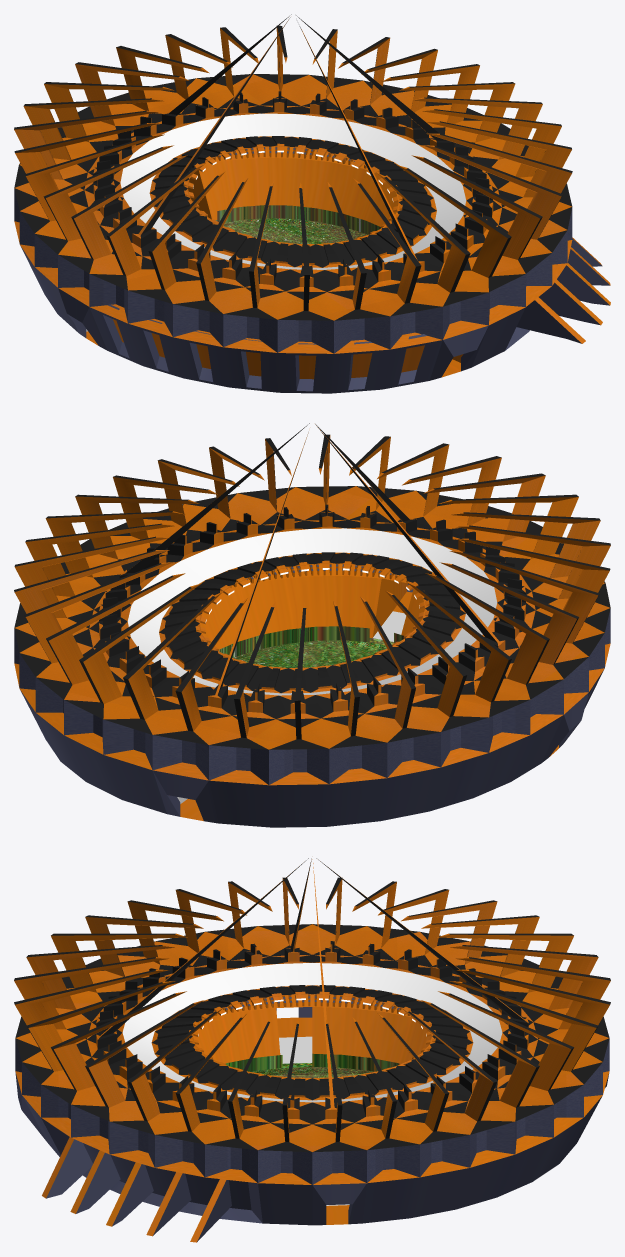
The model's file is olympic.glb.
The picture shows the model from 3 angles, top to bottom: view 1: azimuth 30°, elevation 25°; view 2: azimuth 150°, elevation 25°; view 3: azimuth 270°, elevation 25°; orthographic projection. The views are drawn at different scales.
Visible parts, largest first — view 1: Cylinder; view 2: Cylinder; view 3: Cylinder.
Boxes of the visible parts, x1,y1,x2,y2 form: Cylinder: (14,14,610,393); Cylinder: (14,423,610,827); Cylinder: (14,858,610,1242).
Size of the model in its own units: 4.55 by 2.39 by 4.88.
7 materials, 3 textured.
